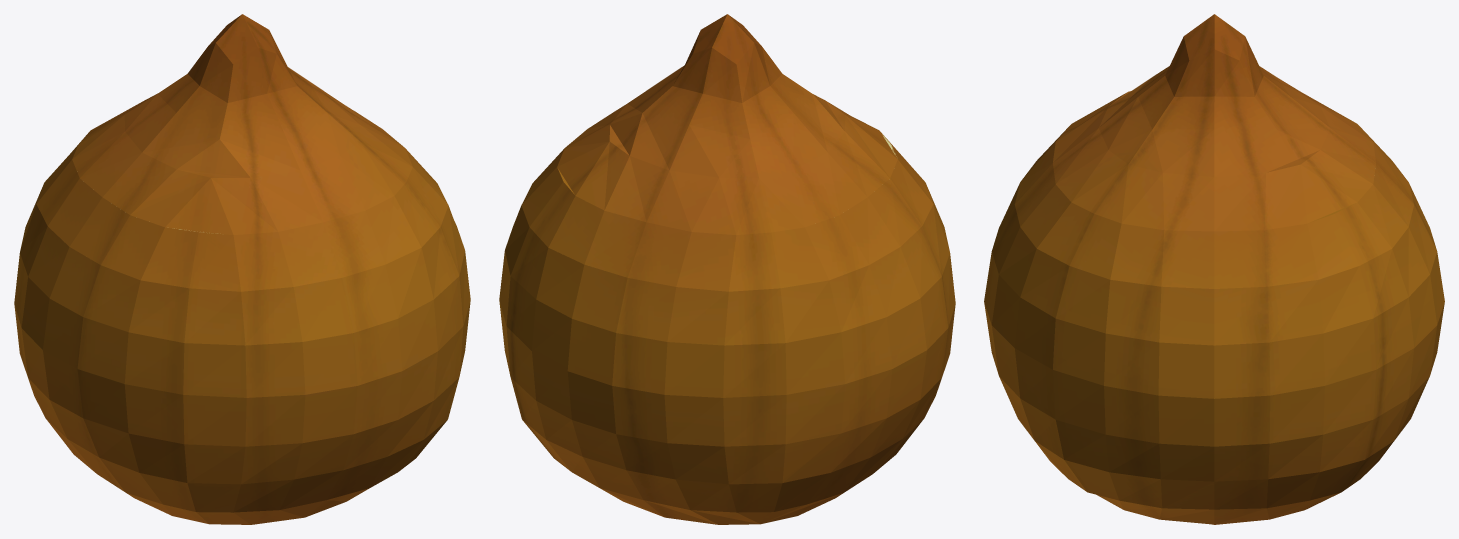
Rendered from Onion.obj.
3 renders of one model, left to right at view 1: azimuth 30°, elevation 25°; view 2: azimuth 150°, elevation 25°; view 3: azimuth 270°, elevation 25°, orthographic.
Parts seen in each view (by area): view 1: Onion_Sliced; view 2: Onion_Sliced; view 3: Onion_Sliced.
Part boxes in pixels (<box>): Onion_Sliced: <box>14,14,470,524</box>; Onion_Sliced: <box>499,14,955,524</box>; Onion_Sliced: <box>984,14,1444,524</box>.
Bounding box in the file's own units: 0.7651 × 0.9037 × 0.7651.
Materials: 1 (1 with a texture image).
